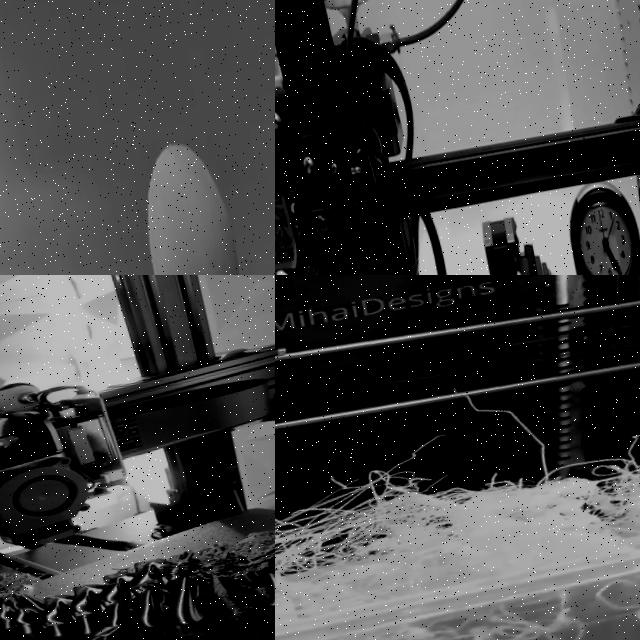spaghetti: (275, 424, 640, 640), (169, 486, 275, 618)
